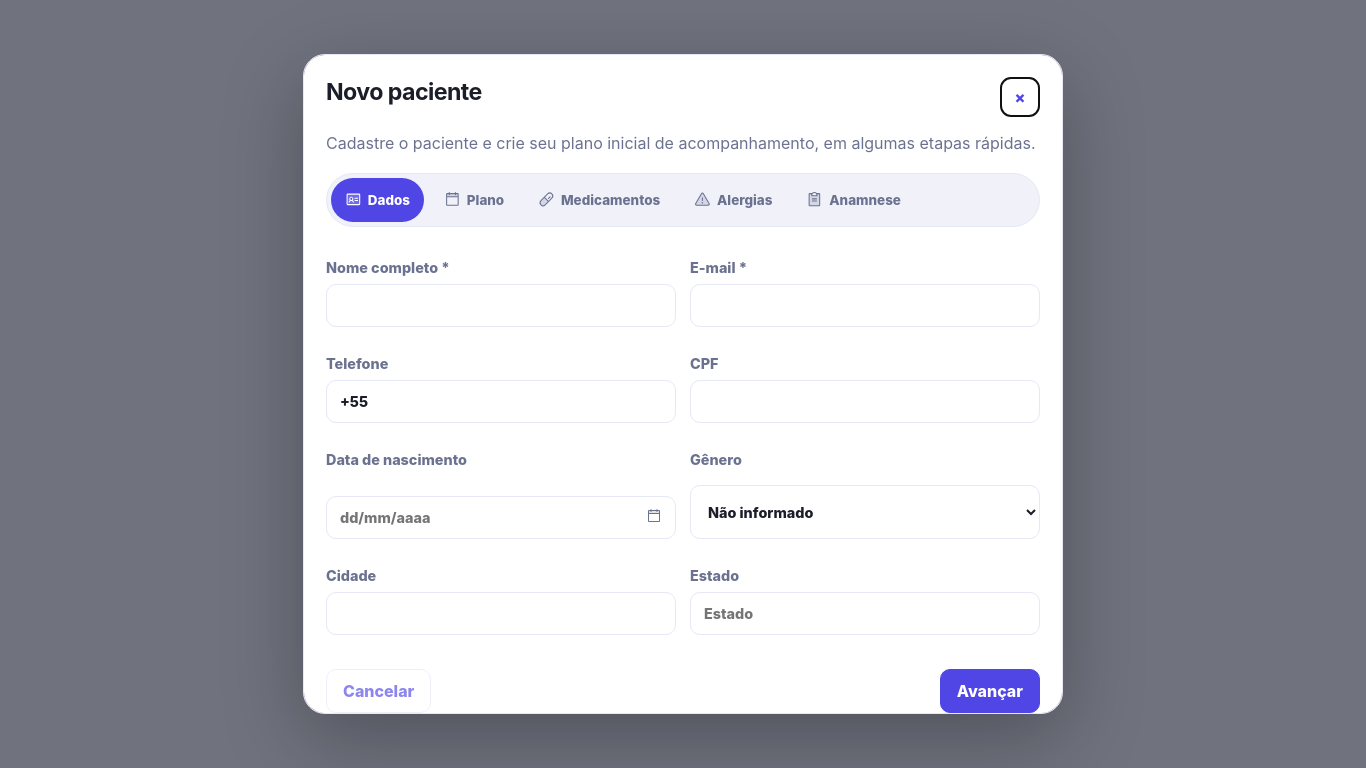
Test: cadastro profissional de pacientes › desabilita a submissão durante o loading
Click the button "Anamnese" at (854, 200), box [792,178,915,222]
(page scrolled)
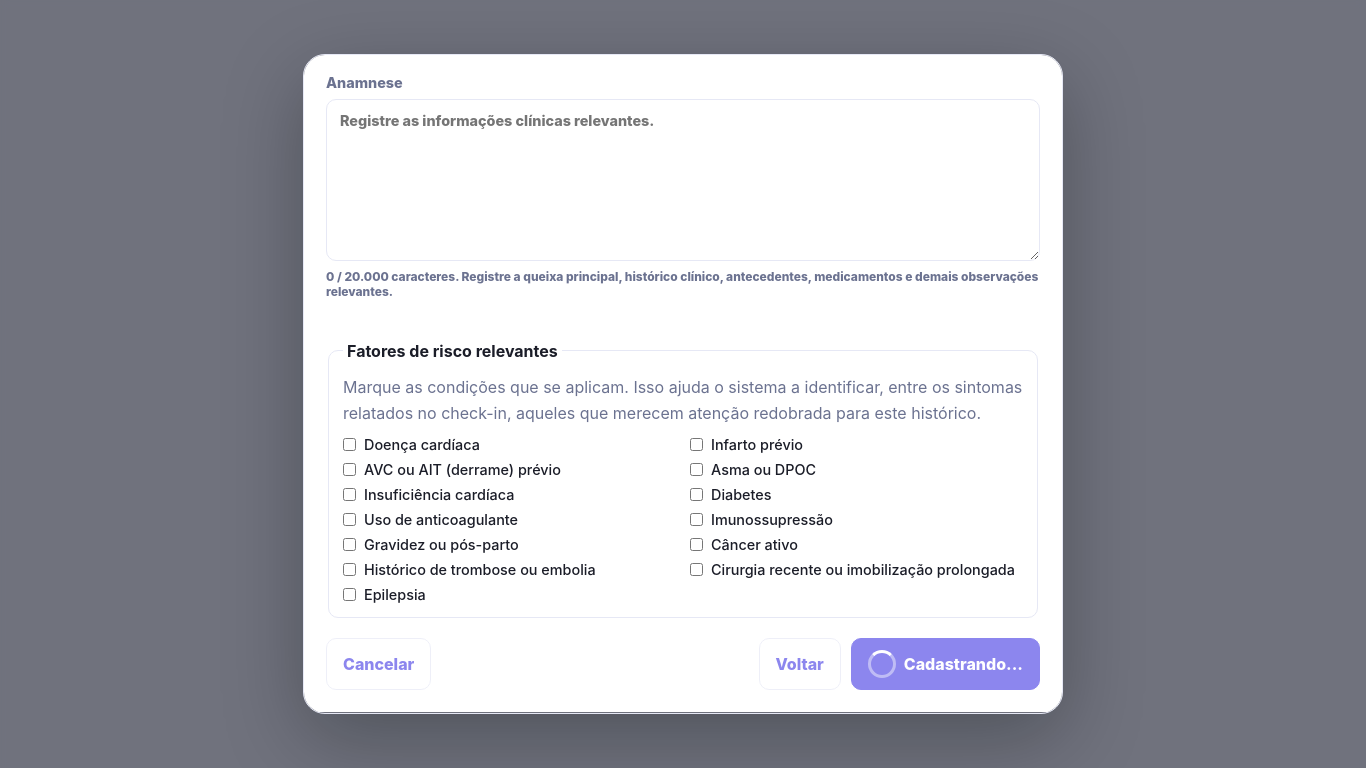
Check: the button "Cadastrando..." is disabled, box [851,638,1040,690]
